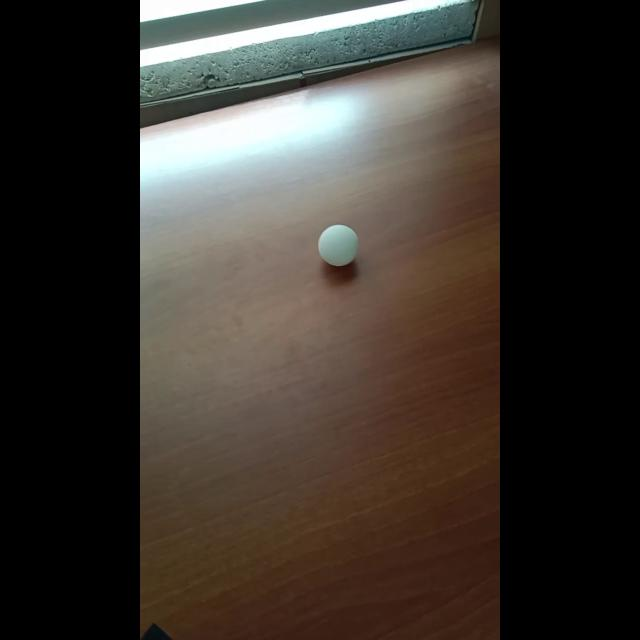white ball: (318, 224, 358, 266)
